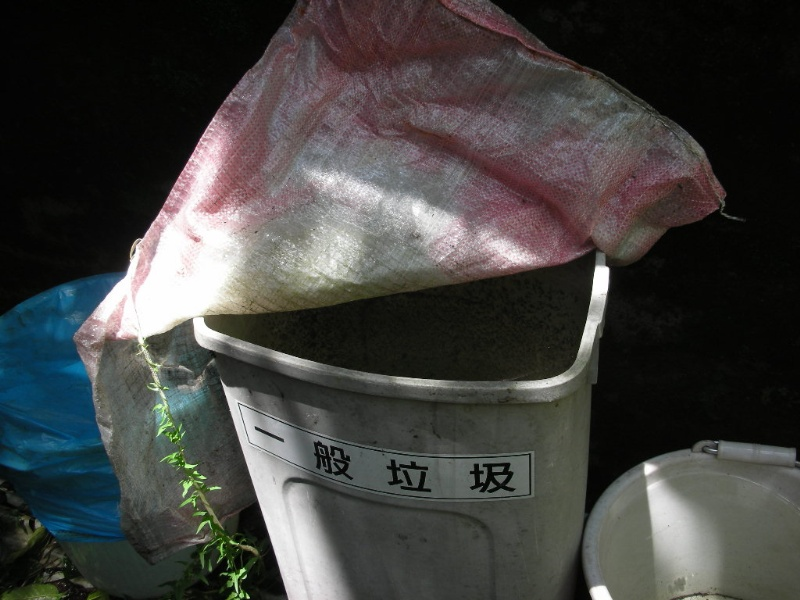bucket: (190, 244, 618, 600)
